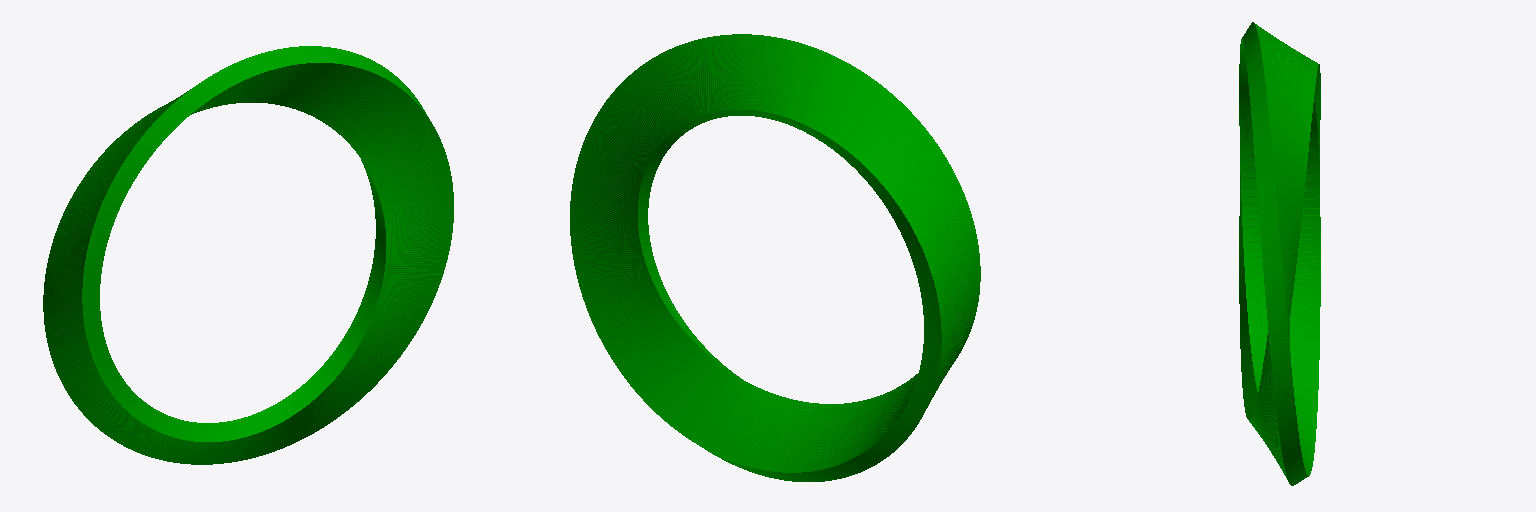
File: mobius_M_smooth.obj
The picture shows the model from 3 angles: view 1: azimuth 30°, elevation 25°; view 2: azimuth 150°, elevation 25°; view 3: azimuth 270°, elevation 25°; orthographic projection.
Parts seen in each view (by area): view 1: OpenSCAD_Model; view 2: OpenSCAD_Model; view 3: OpenSCAD_Model.
Boxes of the visible parts, <box> form: OpenSCAD_Model: <box>43,46,453,464</box>; OpenSCAD_Model: <box>570,34,980,481</box>; OpenSCAD_Model: <box>1239,22,1320,485</box>.
Size of the model in its own units: 113 by 118 by 20.61.